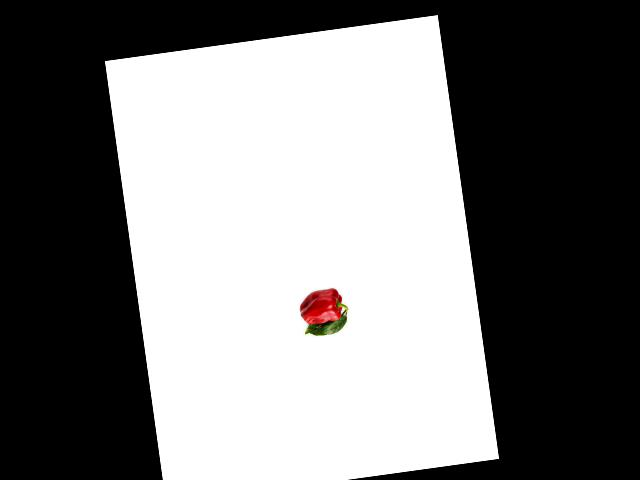bell_pepper: (295, 282, 349, 328)
